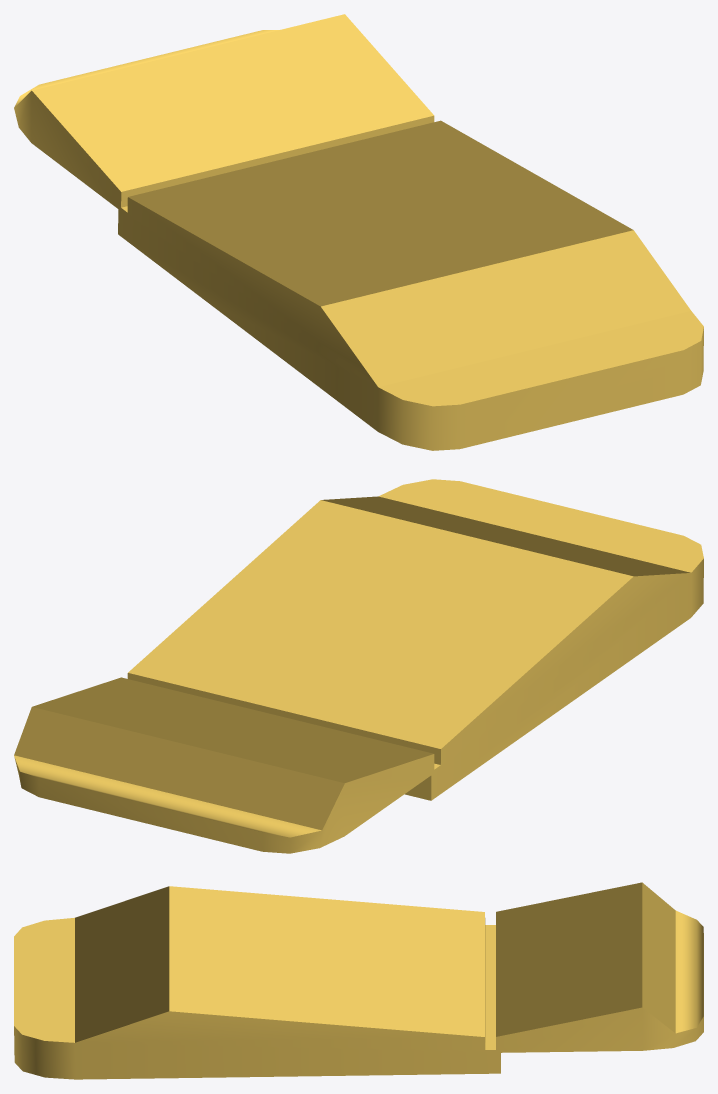
File: original-4.obj
3 views of the same model, one above another, from view 1: azimuth 30°, elevation 25°; view 2: azimuth 150°, elevation 25°; view 3: azimuth 270°, elevation 25° (orthographic). The views are drawn at different scales.
Parts seen in each view (by area): view 1: Group5/mesh4/mesh4-geometry#mesh4-geometry; view 2: Group5/mesh4/mesh4-geometry#mesh4-geometry; view 3: Group5/mesh4/mesh4-geometry#mesh4-geometry.
Boxes of the visible parts, x1=… form: Group5/mesh4/mesh4-geometry#mesh4-geometry: x1=14, y1=14, x2=703, y2=450; Group5/mesh4/mesh4-geometry#mesh4-geometry: x1=14, y1=479, x2=703, y2=853; Group5/mesh4/mesh4-geometry#mesh4-geometry: x1=14, y1=882, x2=703, y2=1079.
Bounding box in the file's own units: 0.0808 × 0.022 × 0.1883.
